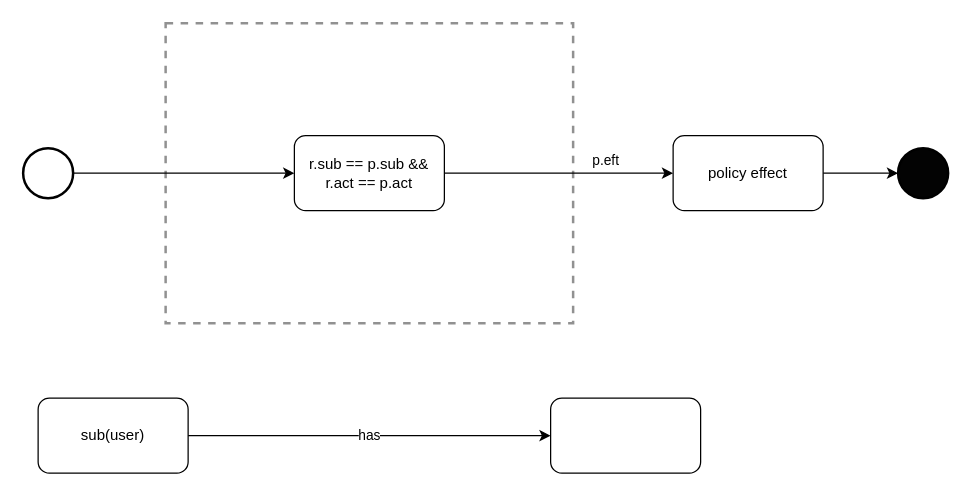
The diagram is 970 pixels wide and 495 high, and some of its shapes have lost their labels. The shapes that lost their labels are listed below. From the top down, each one's box as (x1, y1, x2, y2) in pixels, then its label:
(164, 21, 574, 324): matchers
(549, 397, 701, 473): act(permission)
